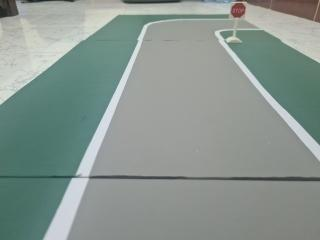stop: (227, 2, 253, 22)
